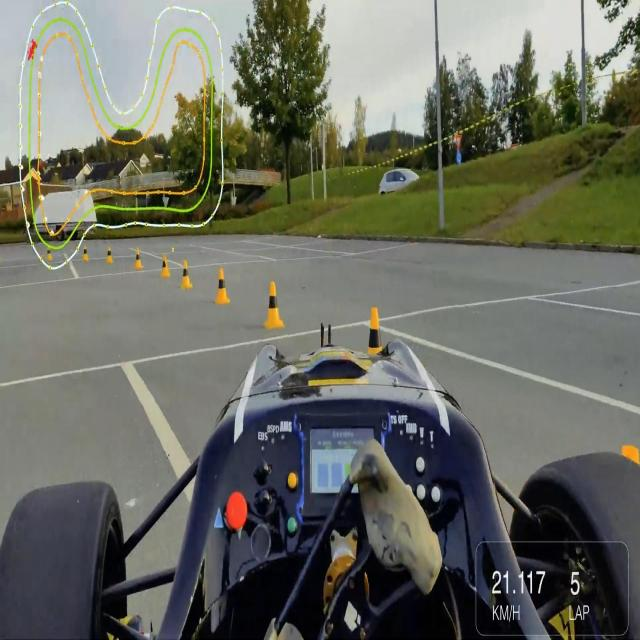yellow_cone: (260, 276, 287, 331), (210, 263, 233, 309), (364, 302, 382, 351), (622, 435, 640, 464), (179, 258, 194, 291), (133, 244, 144, 270), (160, 253, 171, 278), (105, 245, 113, 265), (82, 246, 90, 264), (46, 249, 53, 261)
